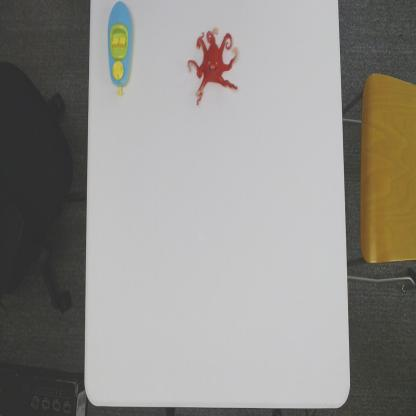Boat: (106, 0, 134, 99)
Octopus: (186, 26, 242, 106)
